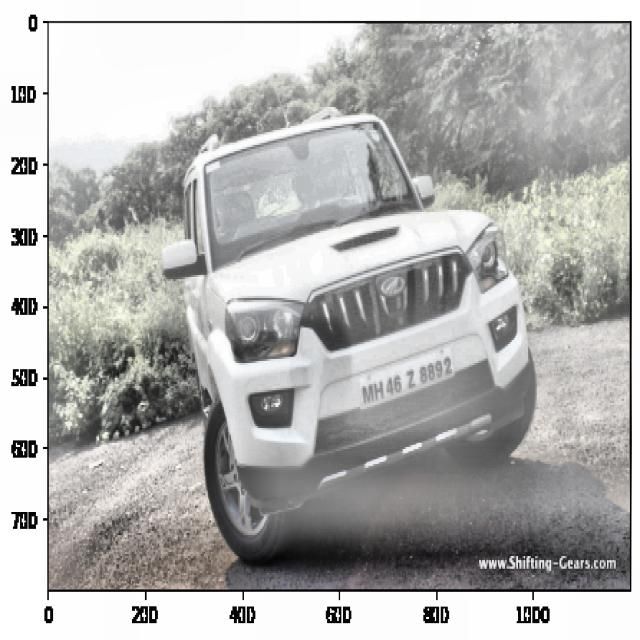license_plate: (358, 353, 457, 406)
